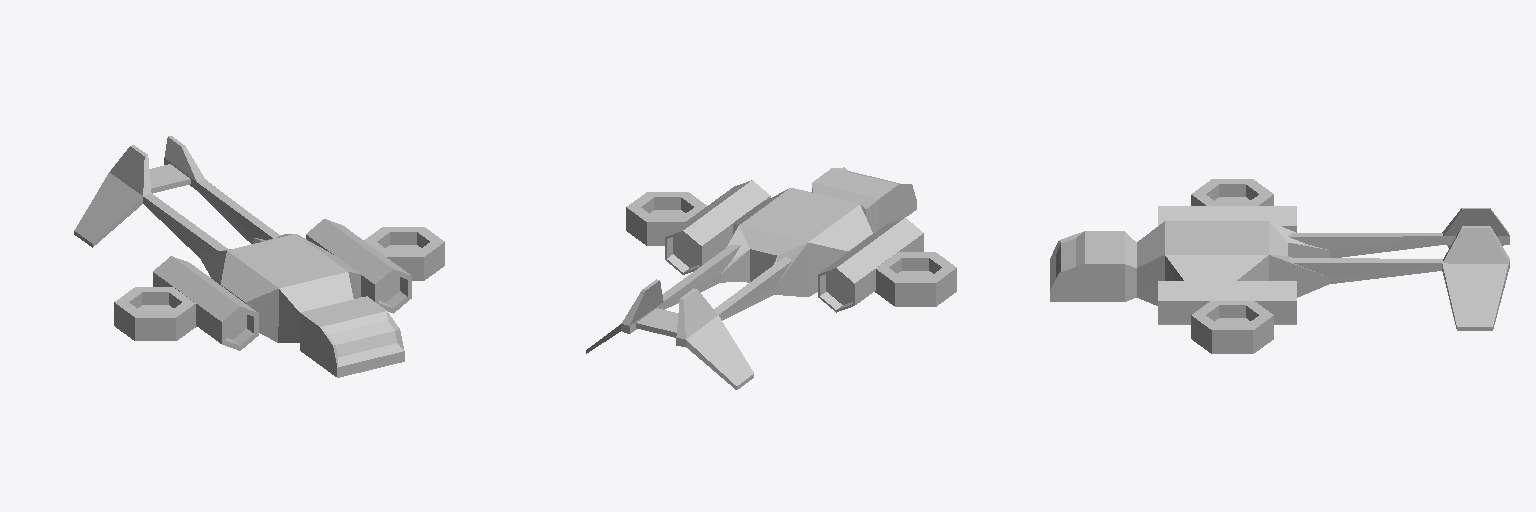
The model's file is aerospace.obj.
3 renders of one model, left to right at view 1: azimuth 30°, elevation 25°; view 2: azimuth 150°, elevation 25°; view 3: azimuth 270°, elevation 25°, orthographic.
Parts seen in each view (by area): view 1: Cube; view 2: Cube; view 3: Cube.
Part boxes in pixels (bbox=[...]): Cube: bbox=[74, 136, 444, 377]; Cube: bbox=[586, 167, 956, 389]; Cube: bbox=[1050, 179, 1509, 353].
Size of the model in its own units: 6.09 by 1.44 by 7.82.